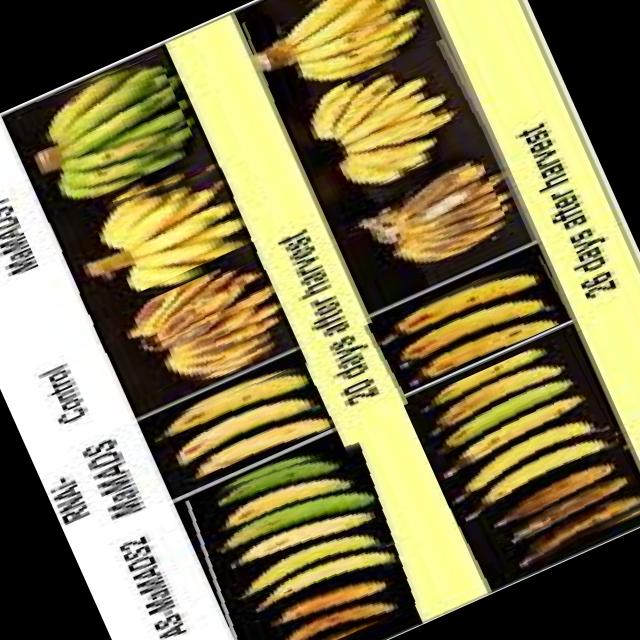Organic: (403, 329, 640, 588), (171, 424, 433, 640), (89, 248, 302, 416), (46, 146, 258, 314), (287, 35, 494, 206), (362, 246, 574, 396), (18, 48, 200, 210), (148, 351, 346, 495), (339, 150, 511, 288), (236, 0, 439, 110)
